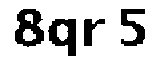5: (114, 7, 149, 50)
8: (12, 7, 44, 49)
q: (45, 15, 78, 60)
r: (81, 12, 108, 51)
